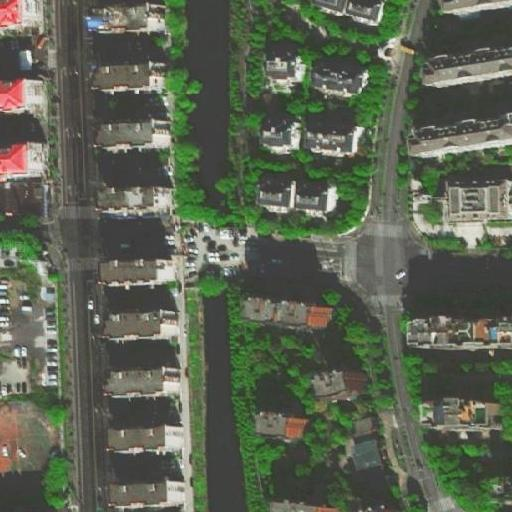building: (416, 112, 512, 153), (410, 316, 511, 347), (248, 288, 334, 324), (435, 177, 512, 217), (428, 45, 512, 81), (418, 401, 505, 431), (105, 365, 179, 396), (101, 306, 176, 336), (107, 480, 182, 509), (98, 116, 170, 146), (102, 183, 175, 212), (88, 60, 163, 88), (313, 65, 368, 102), (109, 424, 178, 449), (101, 256, 171, 280), (316, 368, 369, 399), (0, 143, 48, 177), (291, 184, 336, 218), (310, 129, 358, 159), (264, 57, 305, 92), (258, 183, 297, 218), (261, 413, 309, 441), (260, 118, 296, 155), (12, 27, 46, 65), (1, 81, 39, 112), (351, 440, 384, 475), (270, 500, 342, 511), (481, 472, 512, 497), (349, 415, 377, 442), (349, 497, 399, 512)
